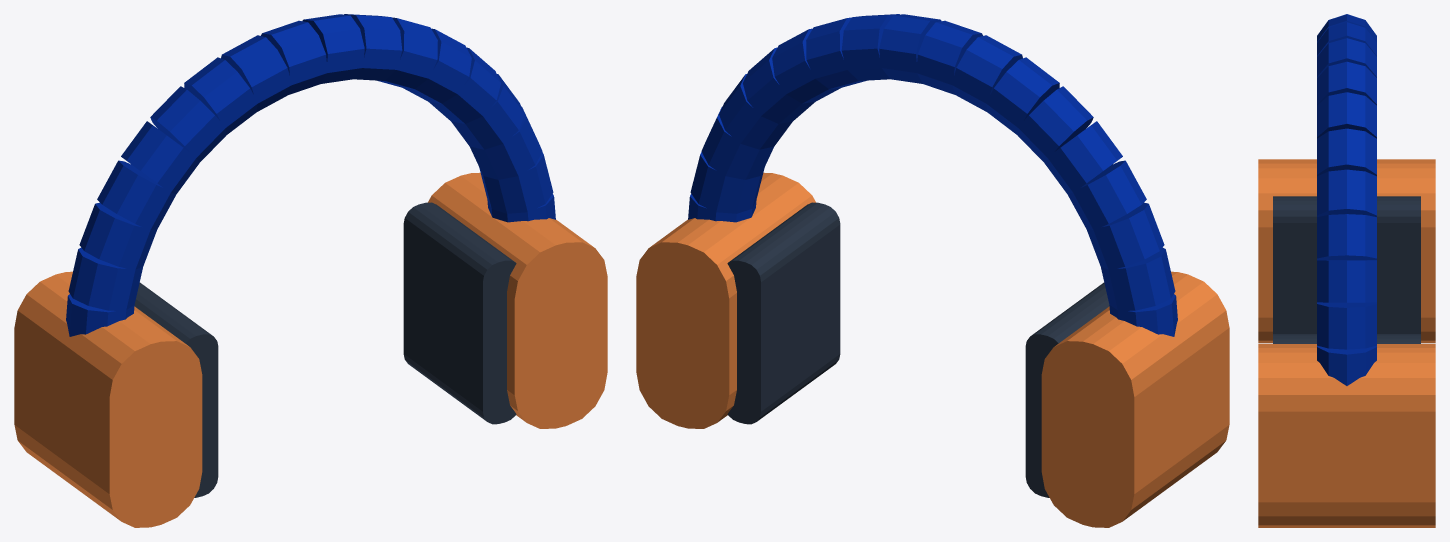
File: headphones.glb
The picture shows the model from 3 angles, left to right: view 1: azimuth 30°, elevation 25°; view 2: azimuth 150°, elevation 25°; view 3: azimuth 270°, elevation 25°; orthographic projection. The views are drawn at different scales.
Parts seen in each view (by area): view 1: left cup, right cup, right pad, left pad, headband15, headband14, headband12, headband16, headband11, headband13, headband10, headband9 (+10 smaller); view 2: left cup, right cup, right pad, left pad, headband15, headband14, headband12, headband16, headband11, headband13, headband10, headband9 (+10 smaller); view 3: right cup, left pad, left cup, headband1, headband3, headband4, headband2, headband5, headband6, headband7, headband0, headband8 (+3 smaller).
Part boxes in pixels (x1,y1,x2,y2): left cup: (14,271,202,527); right cup: (428,172,607,428); right pad: (403,202,516,424); left pad: (134,282,218,497); headband15: (79,202,156,269); headband14: (97,160,176,230); headband12: (150,86,226,162); headband16: (68,247,142,310); headband11: (184,57,257,134); headband13: (121,121,199,194); headband10: (221,35,292,111); headband9: (261,20,327,94); left cup: (1041,271,1229,527); right cup: (636,172,815,428); right pad: (727,202,840,424); left pad: (1025,282,1109,497); headband15: (1087,202,1164,270); headband14: (1067,160,1146,230); headband12: (1017,86,1093,162); headband16: (1101,247,1175,310); headband11: (986,57,1059,134); headband13: (1044,121,1122,194); headband10: (951,35,1022,111); headband9: (917,20,982,94); right cup: (1258,344,1435,527); left pad: (1273,196,1420,333); left cup: (1258,159,1435,343); headband1: (1317,302,1376,349); headband3: (1317,214,1376,259); headband4: (1317,169,1376,216); headband2: (1317,260,1376,302); headband5: (1317,128,1376,176); headband6: (1317,92,1376,138); headband7: (1317,61,1376,105); headband0: (1317,345,1376,385); headband8: (1317,38,1376,77).
Size of the model in its own units: 1.45 by 1.17 by 0.48.
